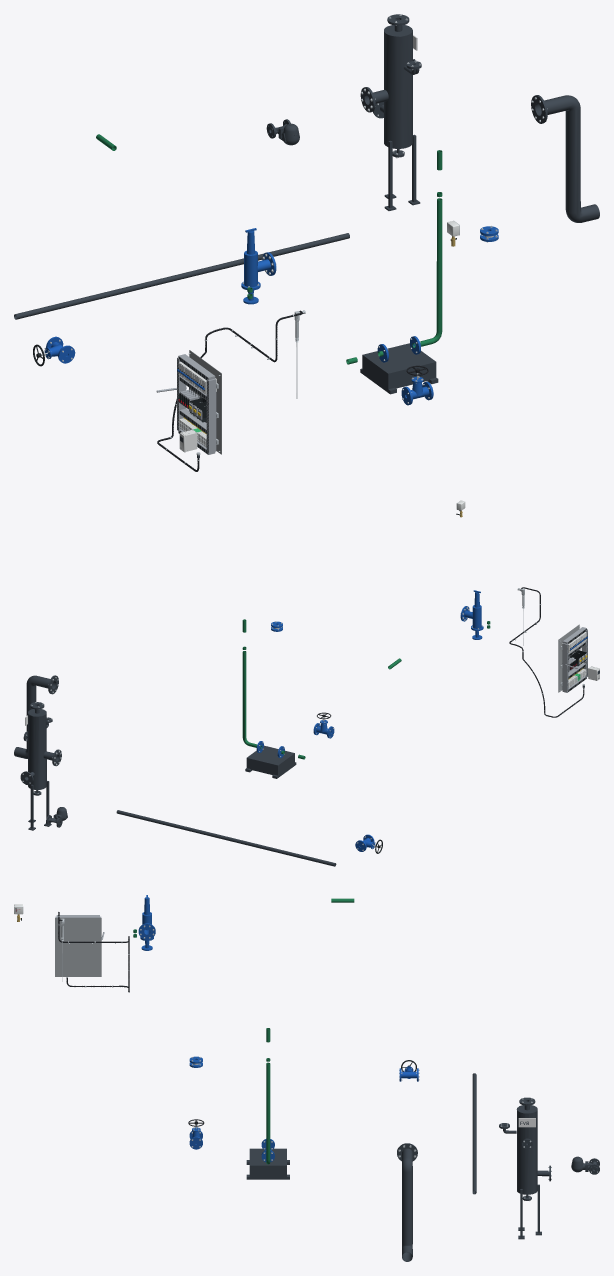
Rendered from s4000-6-BIlULR9x.glb.
The picture shows the model from 3 angles, top to bottom: view 1: azimuth 30°, elevation 25°; view 2: azimuth 150°, elevation 25°; view 3: azimuth 270°, elevation 25°; orthographic projection. The views are drawn at different scales.
Visible parts, largest first — view 1: separator_fv8 / dark, cabinet_interior / cabinet_interior_0.npz, bdv_water_drain / dark, pump_branch_2 / dark, bottom_discharge / dark, pump_branch_2 / green, safety_2 / blue, drain_isolation_1 / drain_isolation_1_0.npz, wiring_high_level / black; view 2: separator_fv8 / dark, cabinet_interior / cabinet_interior_0.npz, pump_branch_2 / dark, bottom_discharge / dark, bdv_water_drain / dark, pump_branch_2 / green, safety_2 / blue; view 3: cabinet_interior / cabinet_interior_0.npz, separator_fv8 / dark, bdv_water_drain / dark, pump_branch_2 / dark, bottom_discharge / dark, pump_branch_2 / green.
Boxes of the visible parts, bbox=[...] form: separator_fv8 / dark: bbox=[360, 14, 421, 210]; cabinet_interior / cabinet_interior_0.npz: bbox=[156, 350, 221, 454]; bdv_water_drain / dark: bbox=[531, 95, 599, 222]; pump_branch_2 / dark: bbox=[360, 343, 438, 394]; bottom_discharge / dark: bbox=[14, 233, 349, 319]; pump_branch_2 / green: bbox=[346, 150, 442, 364]; safety_2 / blue: bbox=[241, 228, 276, 290]; drain_isolation_1 / drain_isolation_1_0.npz: bbox=[33, 336, 75, 366]; wiring_high_level / black: bbox=[157, 310, 302, 471]; separator_fv8 / dark: bbox=[20, 702, 61, 830]; cabinet_interior / cabinet_interior_0.npz: bbox=[558, 624, 587, 692]; pump_branch_2 / dark: bbox=[245, 745, 296, 778]; bottom_discharge / dark: bbox=[116, 810, 336, 866]; bdv_water_drain / dark: bbox=[14, 675, 58, 758]; pump_branch_2 / green: bbox=[242, 619, 305, 759]; safety_2 / blue: bbox=[460, 590, 483, 630]; cabinet_interior / cabinet_interior_0.npz: bbox=[55, 915, 104, 976]; separator_fv8 / dark: bbox=[499, 1097, 550, 1239]; bdv_water_drain / dark: bbox=[397, 1143, 417, 1261]; pump_branch_2 / dark: bbox=[246, 1148, 289, 1179]; bottom_discharge / dark: bbox=[472, 1073, 476, 1194]; pump_branch_2 / green: bbox=[266, 1028, 270, 1164].
Size of the model in its own units: 5.68 by 2.57 by 6.11.
